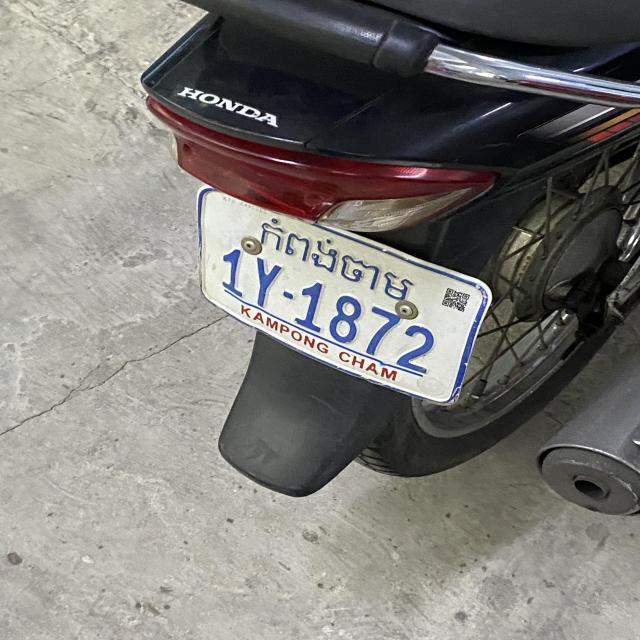Kampong_Cham: (260, 216, 418, 305)
